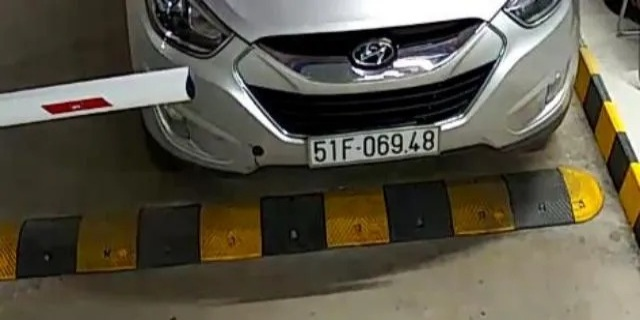bien_so: (312, 130, 439, 160)
